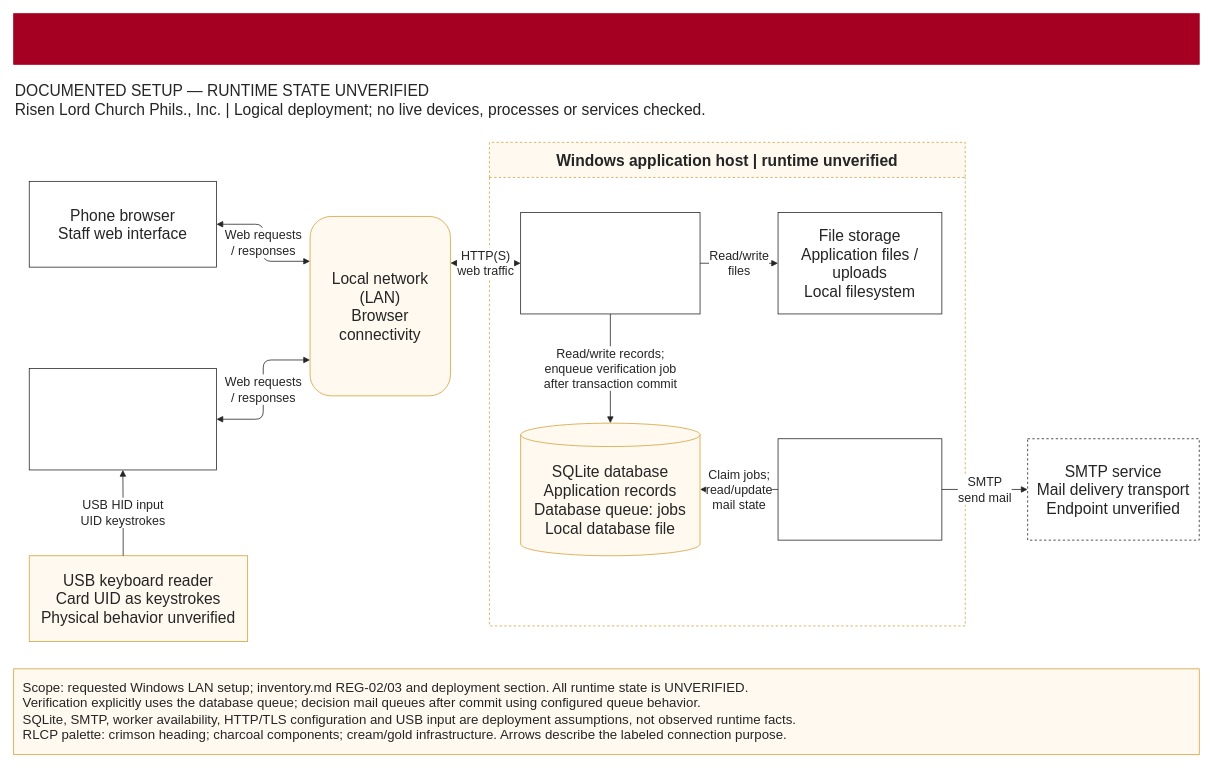
Image size: 1213x768. Some labels were removed from this diagram. The shapes that lost their labels are listed below. From the top down, each one's centre as x and y in pixels, then its label:
At point 606,38: "RLCP | Windows LAN deployment".
At point 610,263: "PHP web process Laravel application Handles browser requests".
At point 122,419: "Scanning computer Desktop browser Staff attendance interface".
At point 859,489: "Mail queue worker Separate PHP process Runs queued mail jobs".
